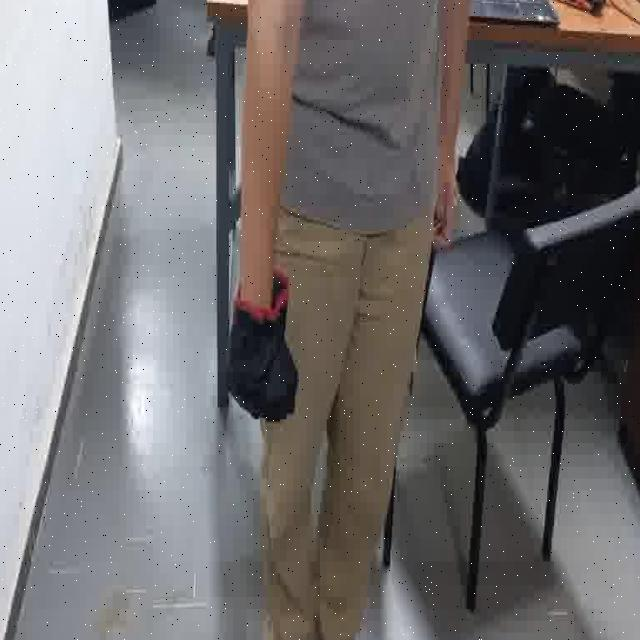Gloves: (224, 268, 300, 420)
